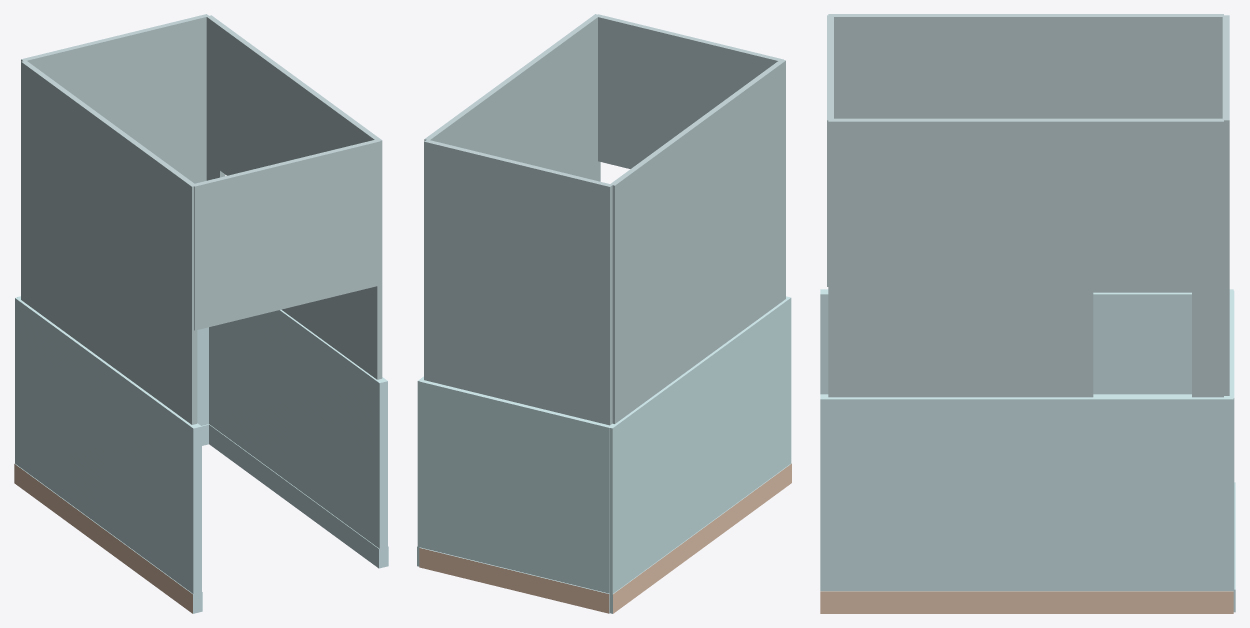
The model's file is walls_slim.dae.
3 renders of one model, left to right at view 1: azimuth 30°, elevation 25°; view 2: azimuth 150°, elevation 25°; view 3: azimuth 270°, elevation 25°, orthographic. The views are drawn at different scales.
Visible parts, largest first — view 1: Glass, Wall.001, Wall, Wall.003; view 2: Glass, Wall.003, Wall.001, Wall; view 3: Glass, Wall, Wall.001, Wall.003.
Part boxes in pixels (x1,y1,x2,y2): Glass: (21,14,382,424); Wall.001: (14,296,202,613); Wall: (209,309,388,568); Wall.003: (17,296,209,445); Glass: (424,14,785,425); Wall.003: (419,379,614,613); Wall.001: (604,296,791,613); Wall: (417,376,423,566); Glass: (827,14,1229,397); Wall: (820,394,1233,613); Wall.001: (820,289,1233,394); Wall.003: (1225,291,1235,612).
Bounding box in the file's own units: 0.9006 × 1.43 × 1.86.
